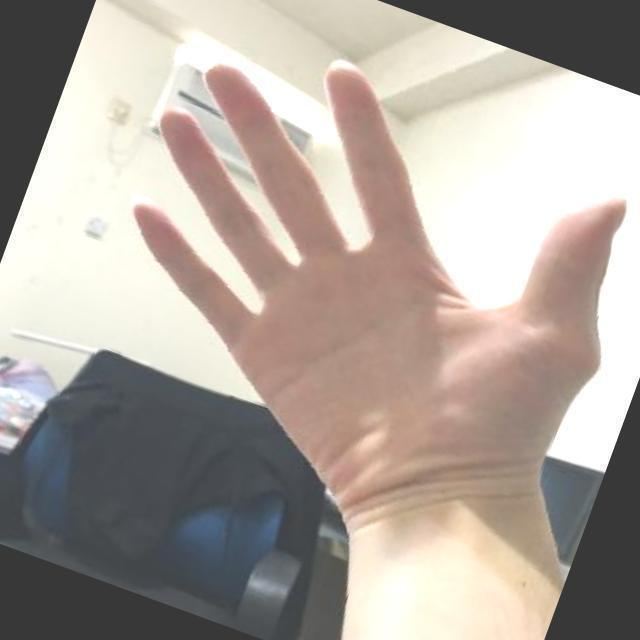hand: (20, 0, 640, 621)
